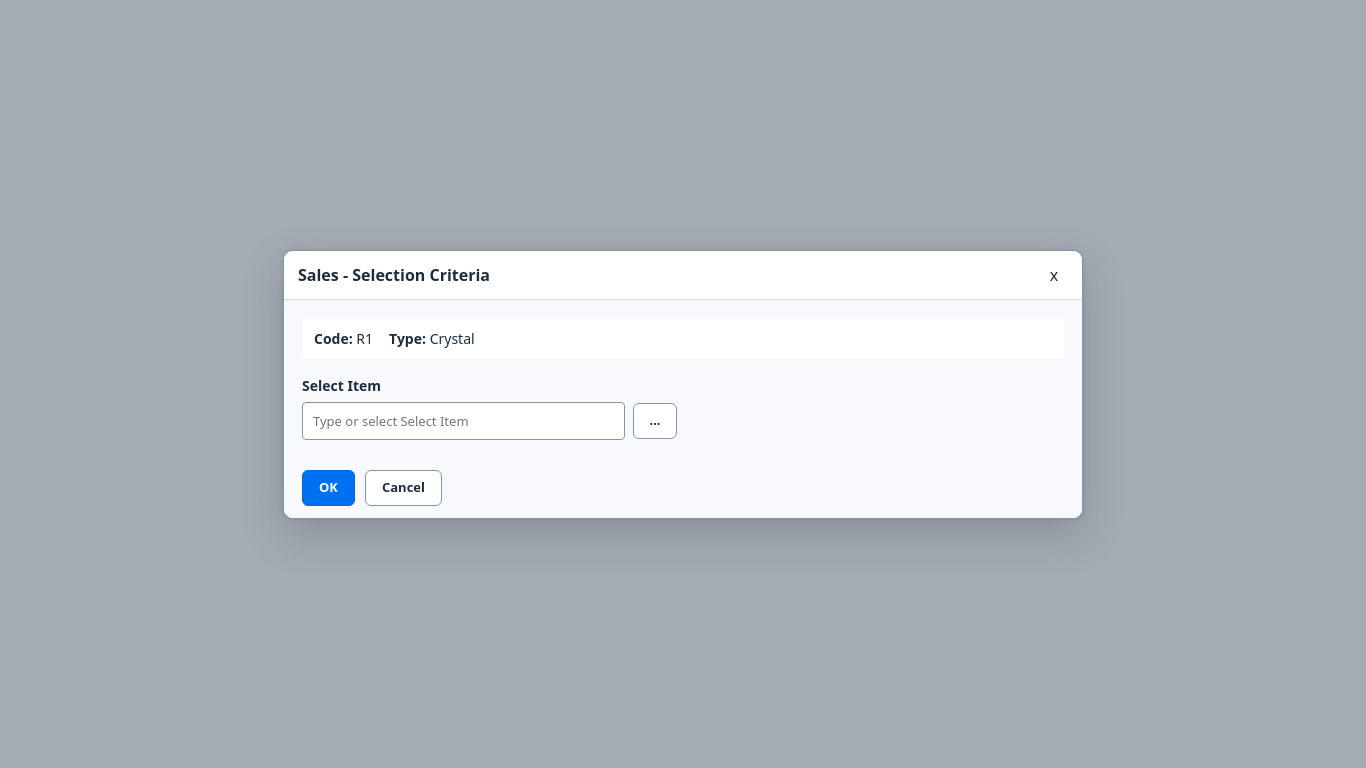
opens a filtered lookup when typed text matches multiple items
Step 1. Type "Soda" into the field with placeholder "Type or select Select Item" → (464, 420), box [302, 402, 625, 440]
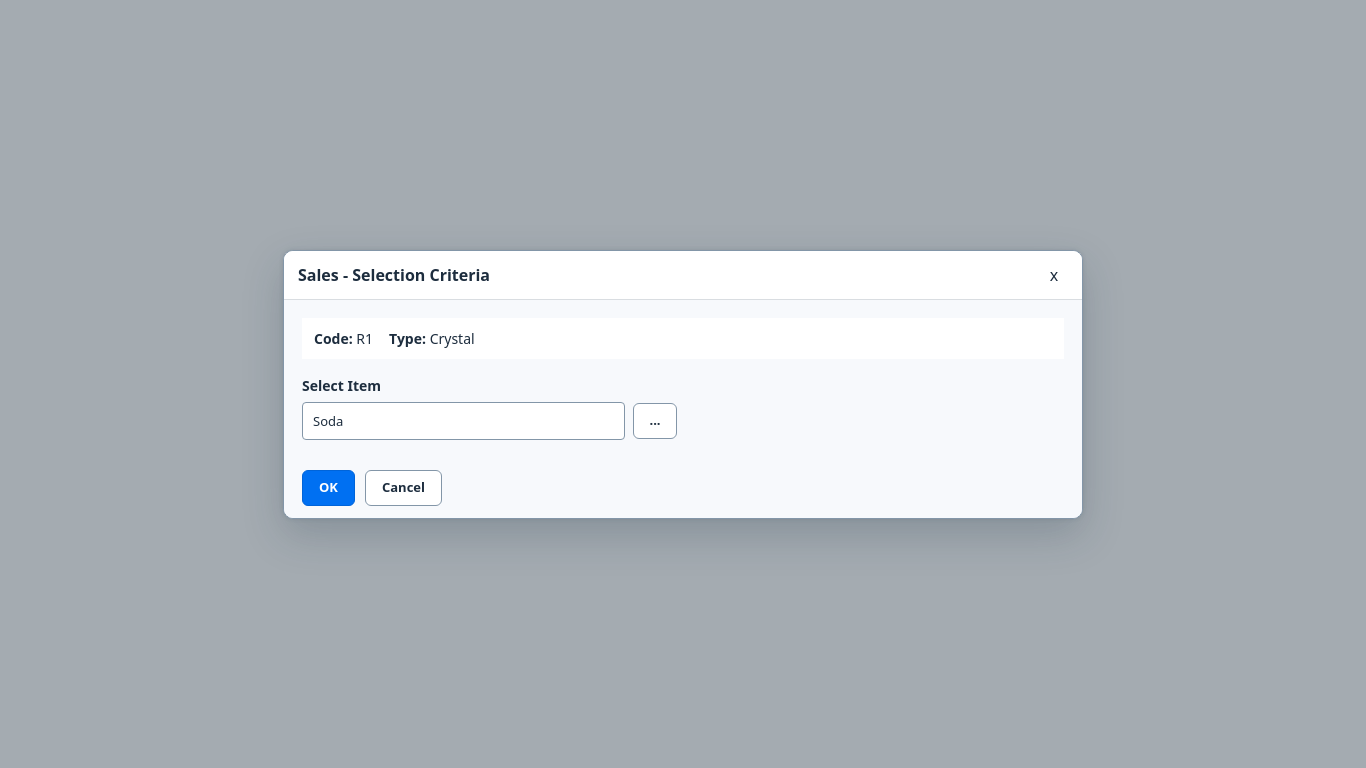
Step 2. Press Tab in the field with placeholder "Type or select Select Item", box [302, 402, 625, 440]
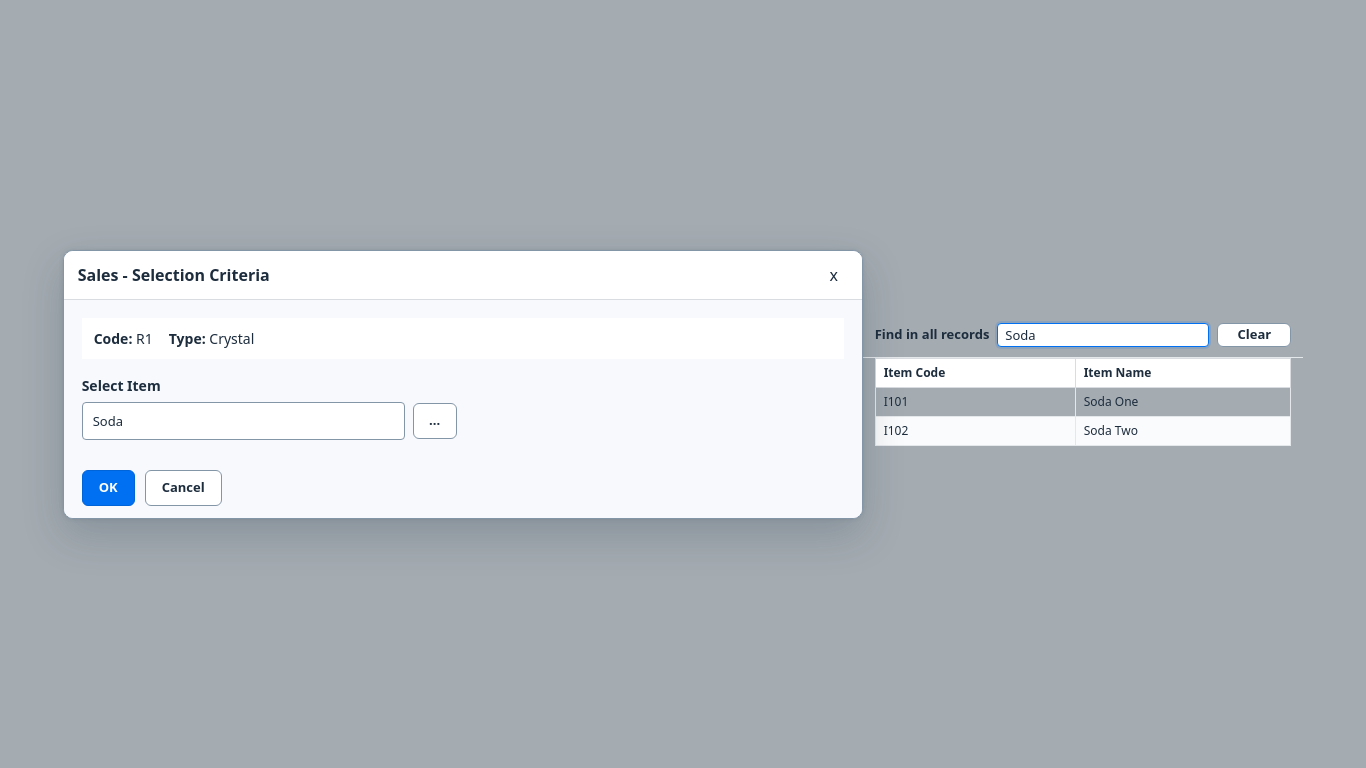
Result: the field labelled "Find in all records" holds "Soda" at [997, 322, 1209, 346]
Result: the text "Soda One" is shown at [1075, 387, 1291, 416]
